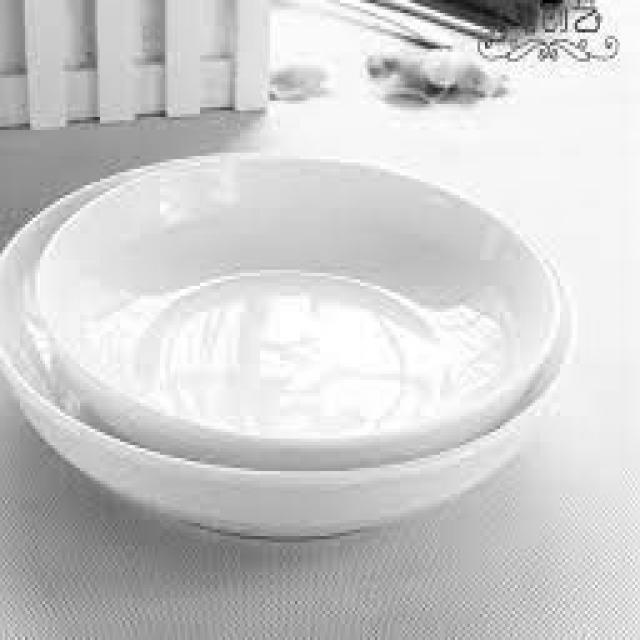dish: (10, 72, 594, 555)
